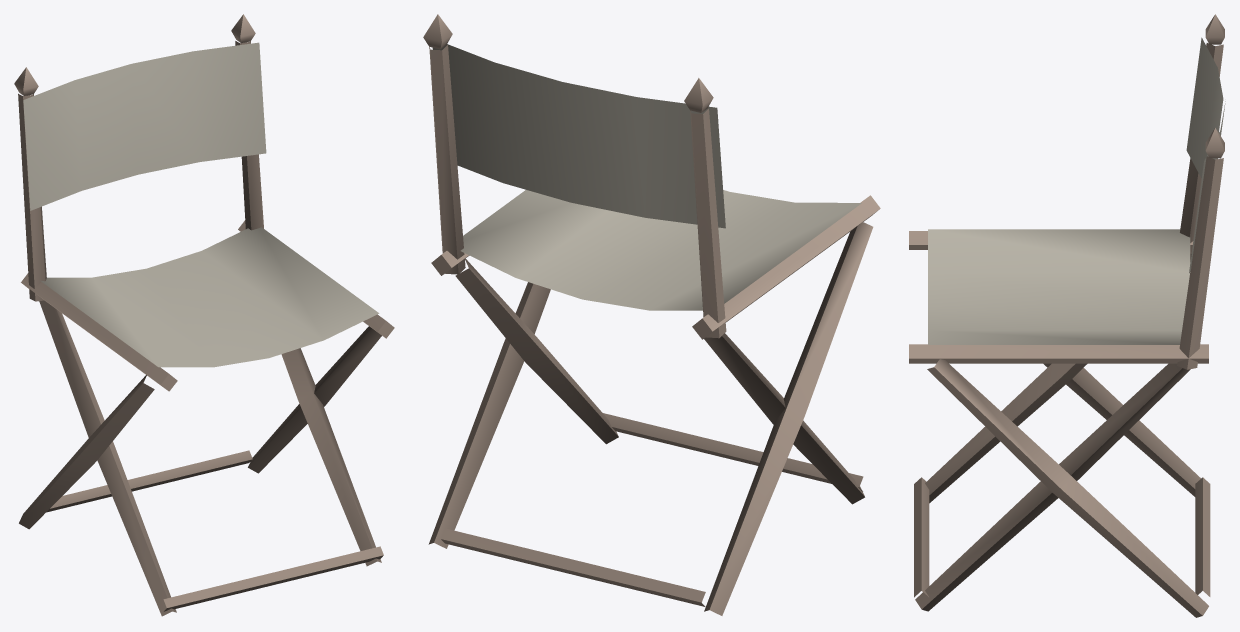
File: prop_head_chair.glb
3 renders of one model, left to right at view 1: azimuth 30°, elevation 25°; view 2: azimuth 150°, elevation 25°; view 3: azimuth 270°, elevation 25°, orthographic. The views are drawn at different scales.
Visible parts, largest first — view 1: prop_head_chair_mesh; view 2: prop_head_chair_mesh; view 3: prop_head_chair_mesh.
Part boxes in pixels (x1,y1,x2,y2): prop_head_chair_mesh: [14, 14, 394, 616]; prop_head_chair_mesh: [423, 14, 880, 615]; prop_head_chair_mesh: [909, 14, 1225, 617].
Bounding box in the file's own units: 0.4961 × 0.8606 × 0.5071.
